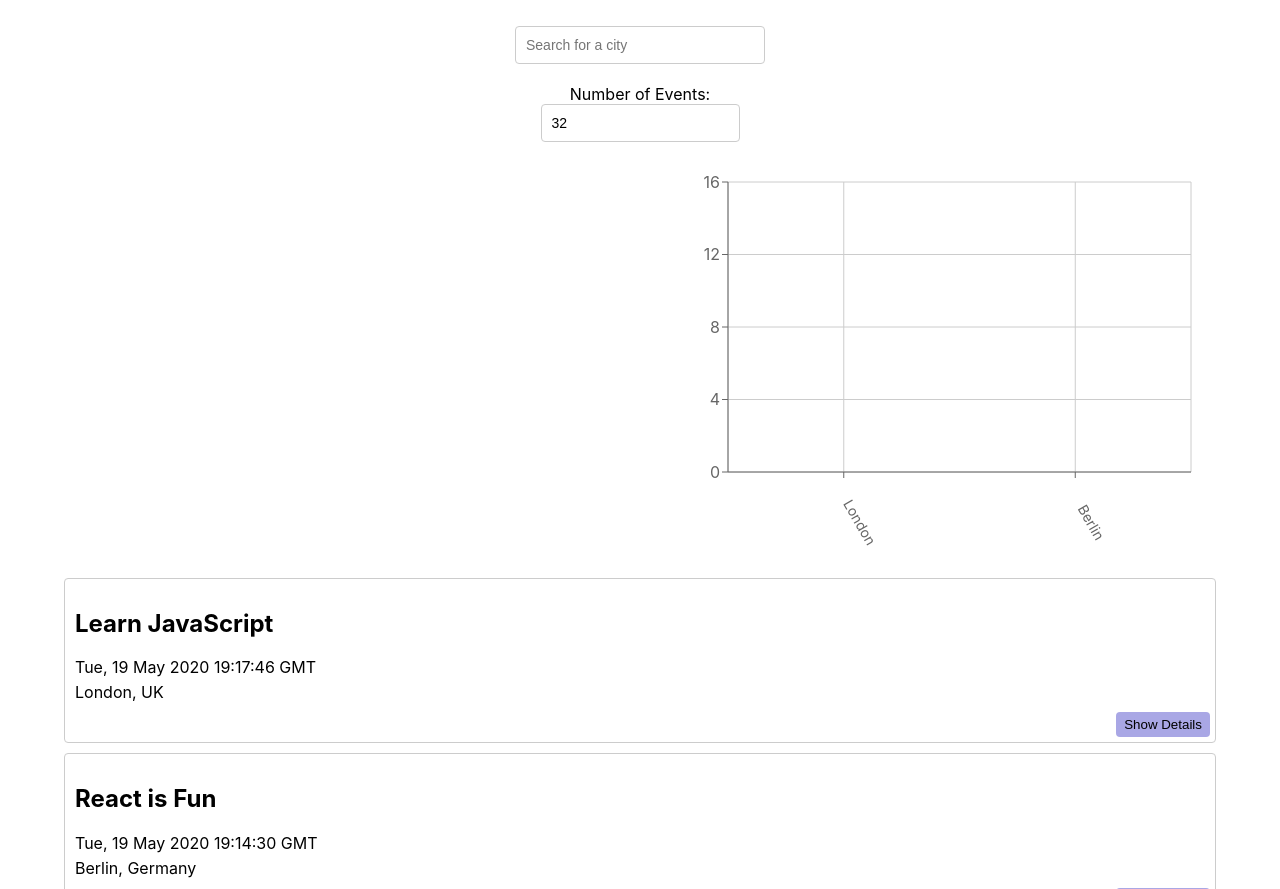
Test: <App /> integration › renders a list of events matching the city selected by the user
This screenshot has width=1280, height=889.
Type "Berlin" into the field with placeholder "Search for a city" at (640, 45), box [515, 26, 765, 64]
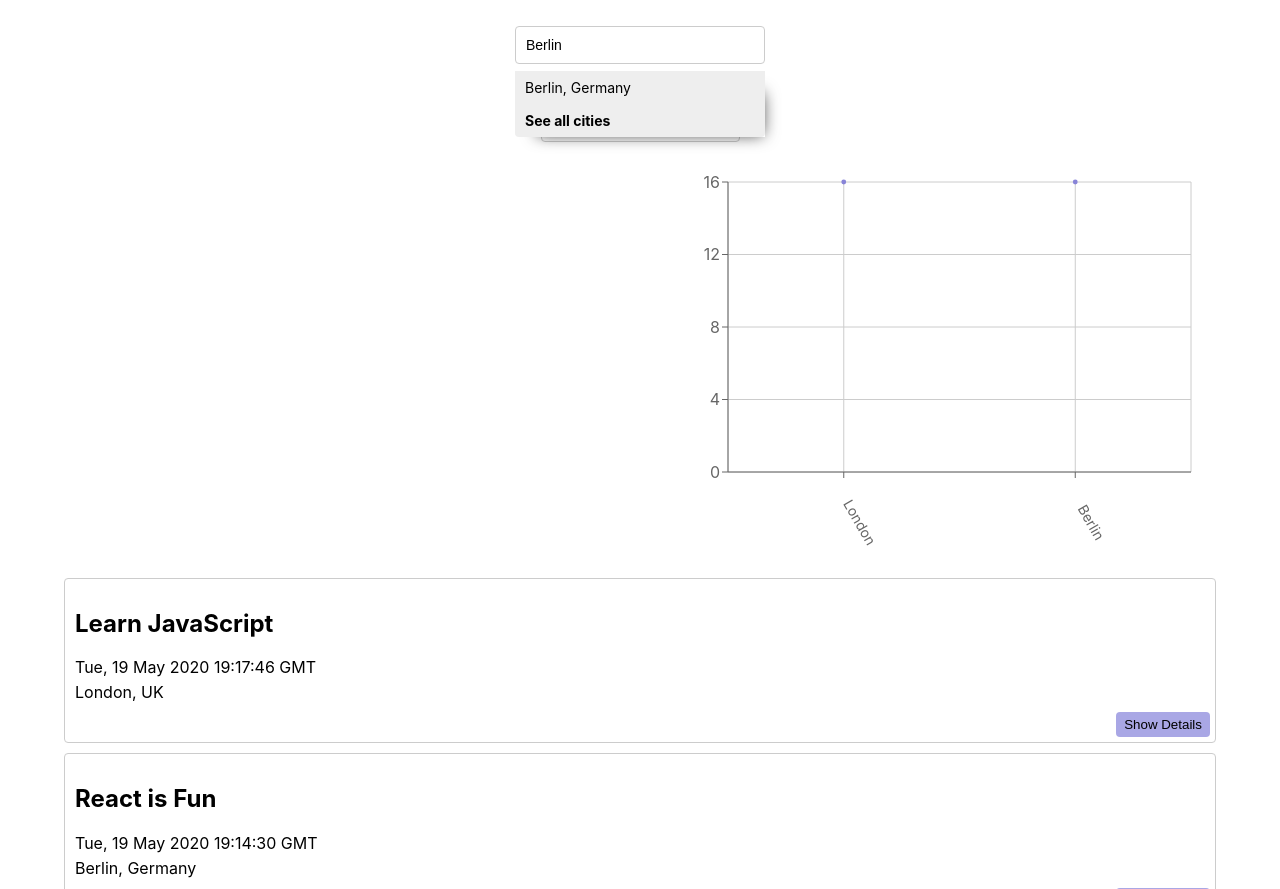
Click the list item "Berlin, Germany" at (640, 87), box [515, 71, 765, 104]
(page scrolled)
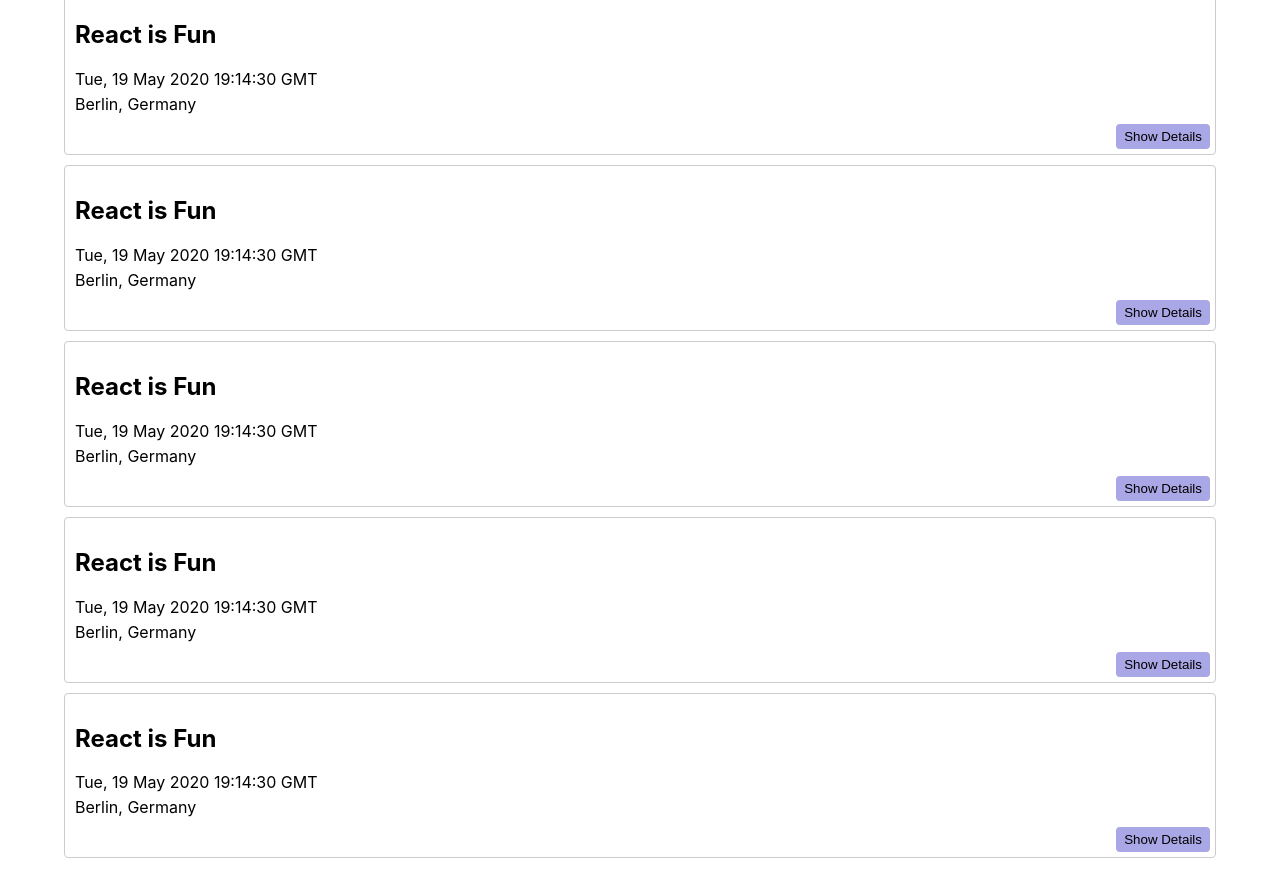
Expected: the 1st list item shows "Berlin, Germany", [75, 94, 196, 114]
Now the 5th list item shows "Berlin, Germany", box [75, 797, 196, 817]
